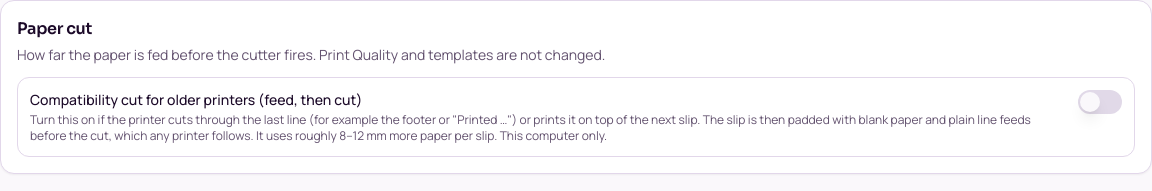
Scenario: the switch › turns it on and off, and says what it does
This screenshot has width=1152, height=191.
Later steps or results of the test are not shown.
expect the text "cuts through the last line" is shown: met, box [30, 111, 1031, 144]
Click the switch named "Compatibility cut for older printers (feed, then cut)" at [1100, 102], box [1078, 90, 1122, 114]
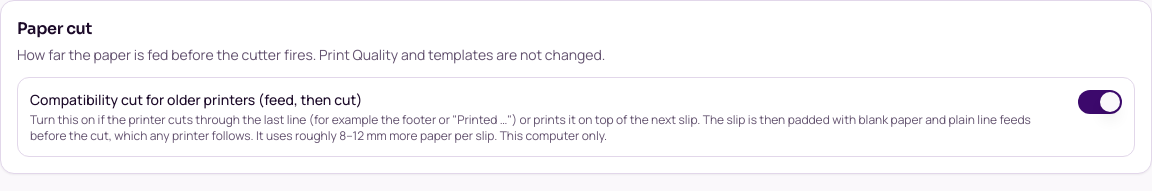
expect the switch named "Compatibility cut for older printers (feed, then cut)" is checked: met, box [1078, 90, 1122, 114]
